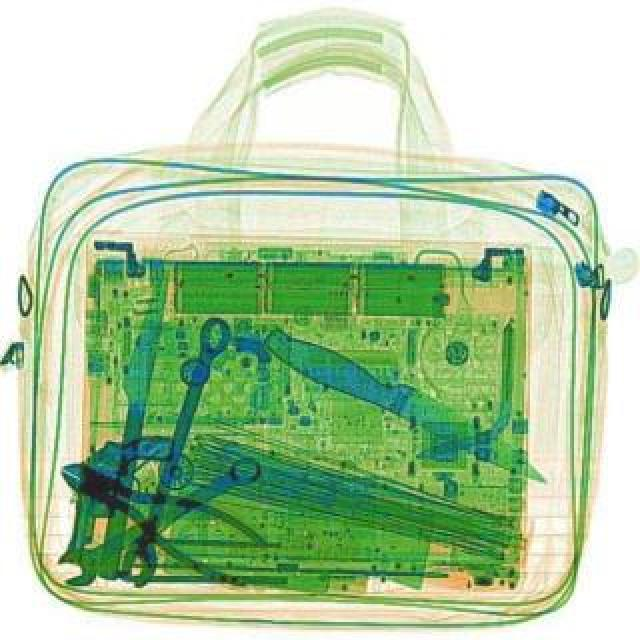gun: (62, 424, 176, 572)
knife: (258, 318, 558, 492), (88, 266, 170, 580)
scissors: (112, 312, 238, 590), (50, 446, 274, 590)
wrench: (42, 436, 270, 592)
